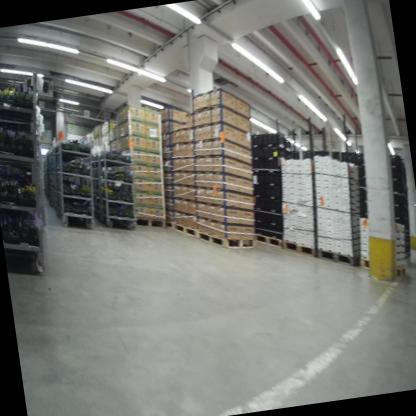pallet: (195, 223, 257, 258), (313, 238, 363, 272), (358, 249, 407, 282), (281, 237, 317, 265), (254, 227, 283, 252), (174, 219, 200, 246), (135, 215, 165, 230), (164, 219, 175, 231)
